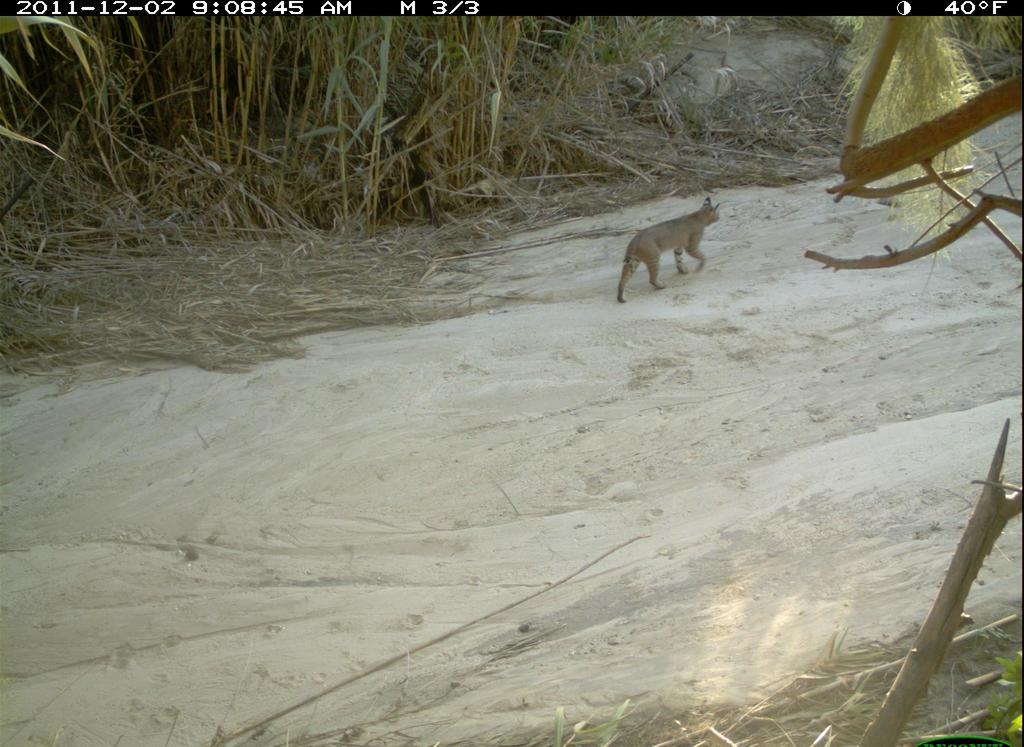bobcat: (606, 193, 725, 313)
